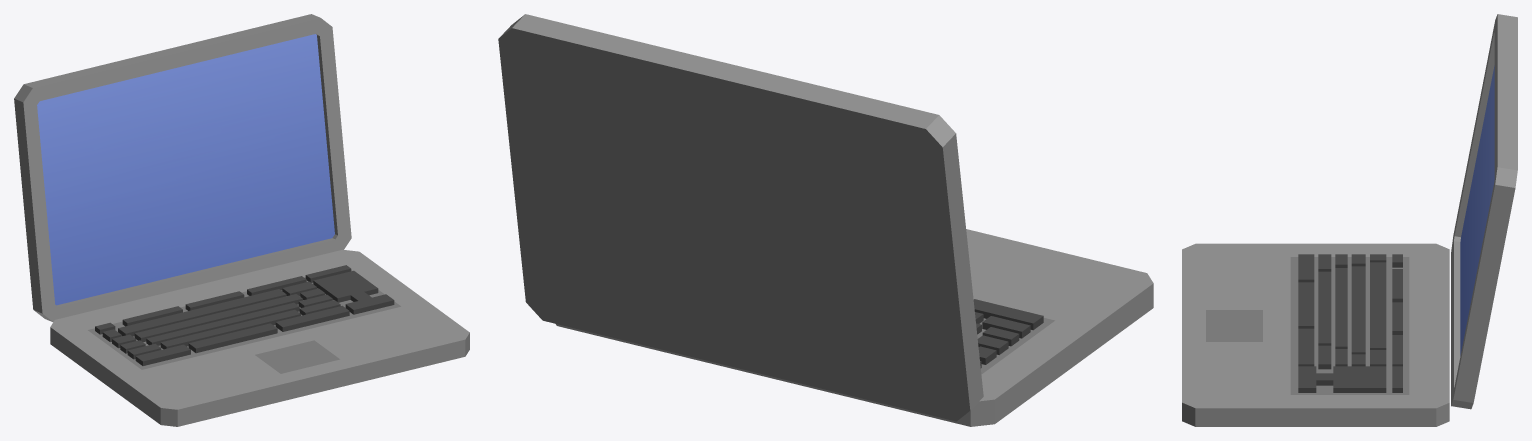
File: laptop_opened.fbx
The picture shows the model from 3 angles, left to right: view 1: azimuth 30°, elevation 25°; view 2: azimuth 150°, elevation 25°; view 3: azimuth 270°, elevation 25°; orthographic projection. The views are drawn at different scales.
Visible parts, largest first — view 1: laptop_opened; view 2: laptop_opened; view 3: laptop_opened.
Part boxes in pixels (left/top/right/bottom): laptop_opened: left=14, top=14, right=469, bottom=426; laptop_opened: left=498, top=14, right=1153, bottom=426; laptop_opened: left=1182, top=14, right=1517, bottom=426.
Bounding box in the file's own units: 37.69 × 27.15 × 32.51.
